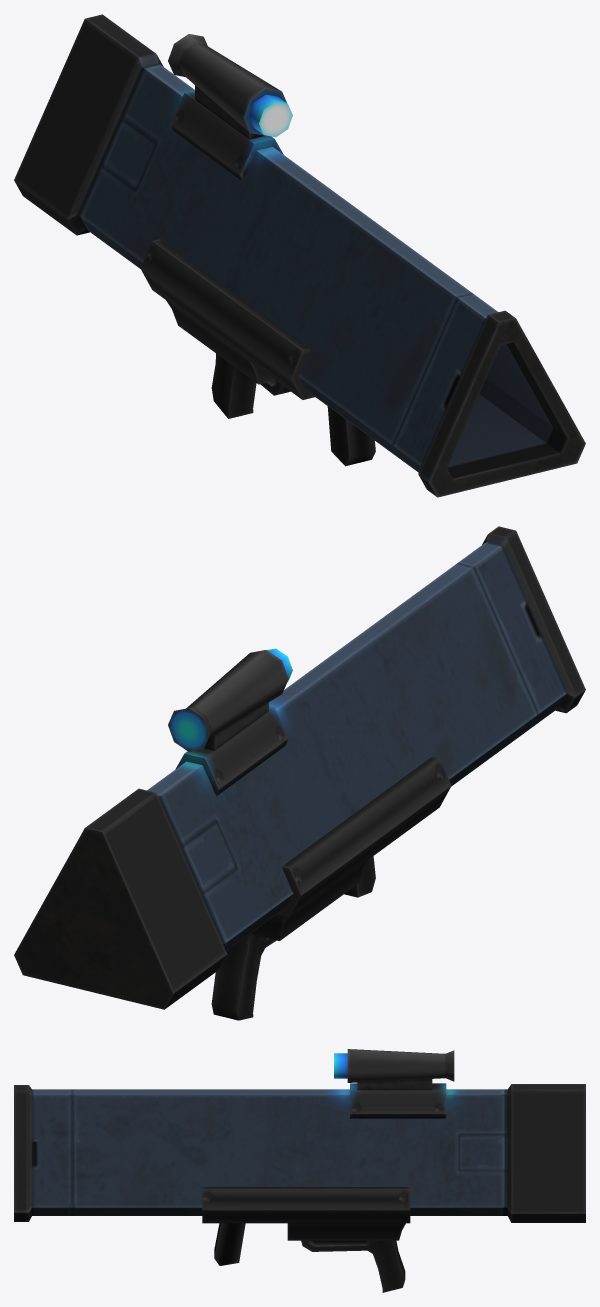
Rendered from beacon_gun.fbx.
The picture shows the model from 3 angles, top to bottom: view 1: azimuth 30°, elevation 25°; view 2: azimuth 150°, elevation 25°; view 3: azimuth 270°, elevation 25°; orthographic projection. The views are drawn at different scales.
Parts seen in each view (by area): view 1: beacon_gun; view 2: beacon_gun; view 3: beacon_gun.
Part boxes in pixels (x1,y1,x2,y2): beacon_gun: (14,14,585,497); beacon_gun: (14,526,585,1020); beacon_gun: (14,1049,585,1292).
Size of the model in its own units: 15.39 by 31.66 by 68.64.
Materials: 1 (1 with a texture image).
